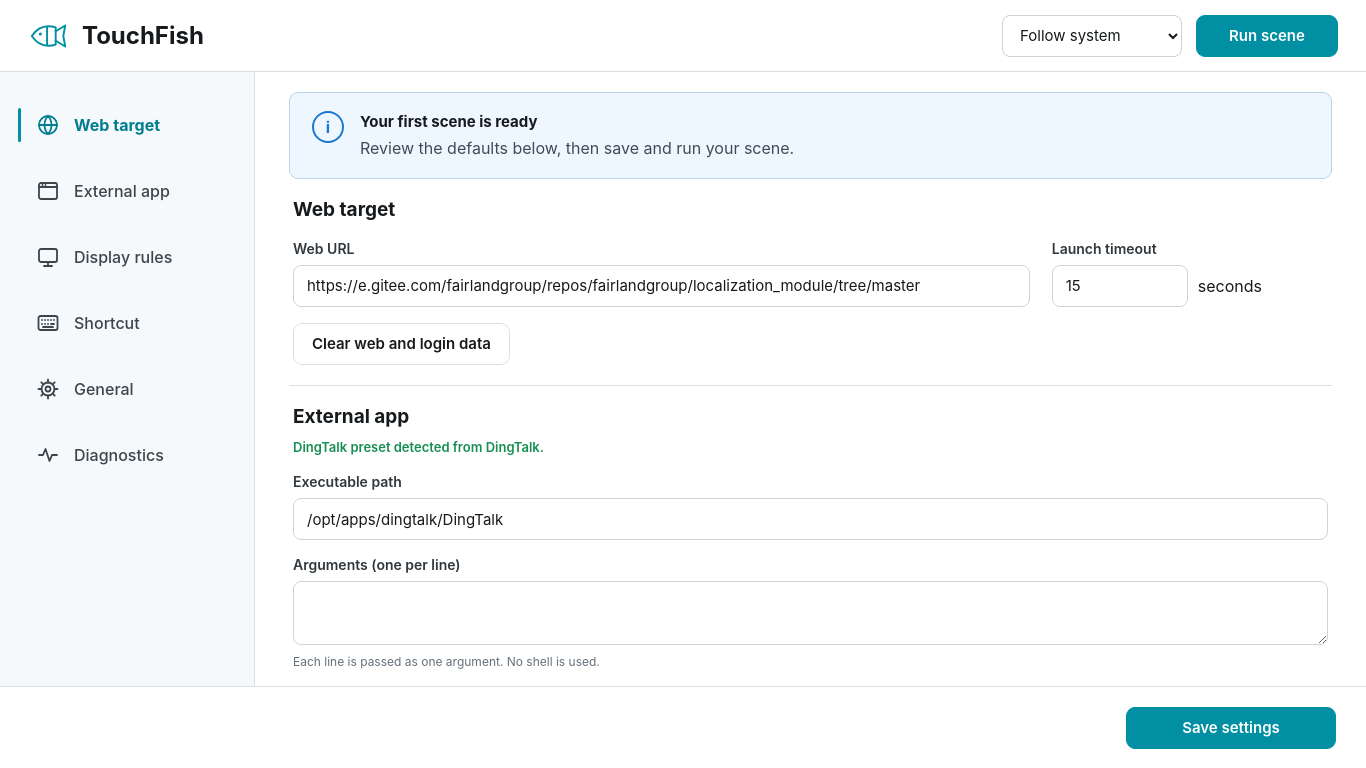
Scenario: TouchFish settings › disables settings and actions while a save is in flight
Check: the heading "Web target" is shown, box [293,198,395,221]
What coordinates should you click on to do the following:
click the button "Save settings"
I would click on:
 (1231, 728)
Its box is [1126,706,1336,748].
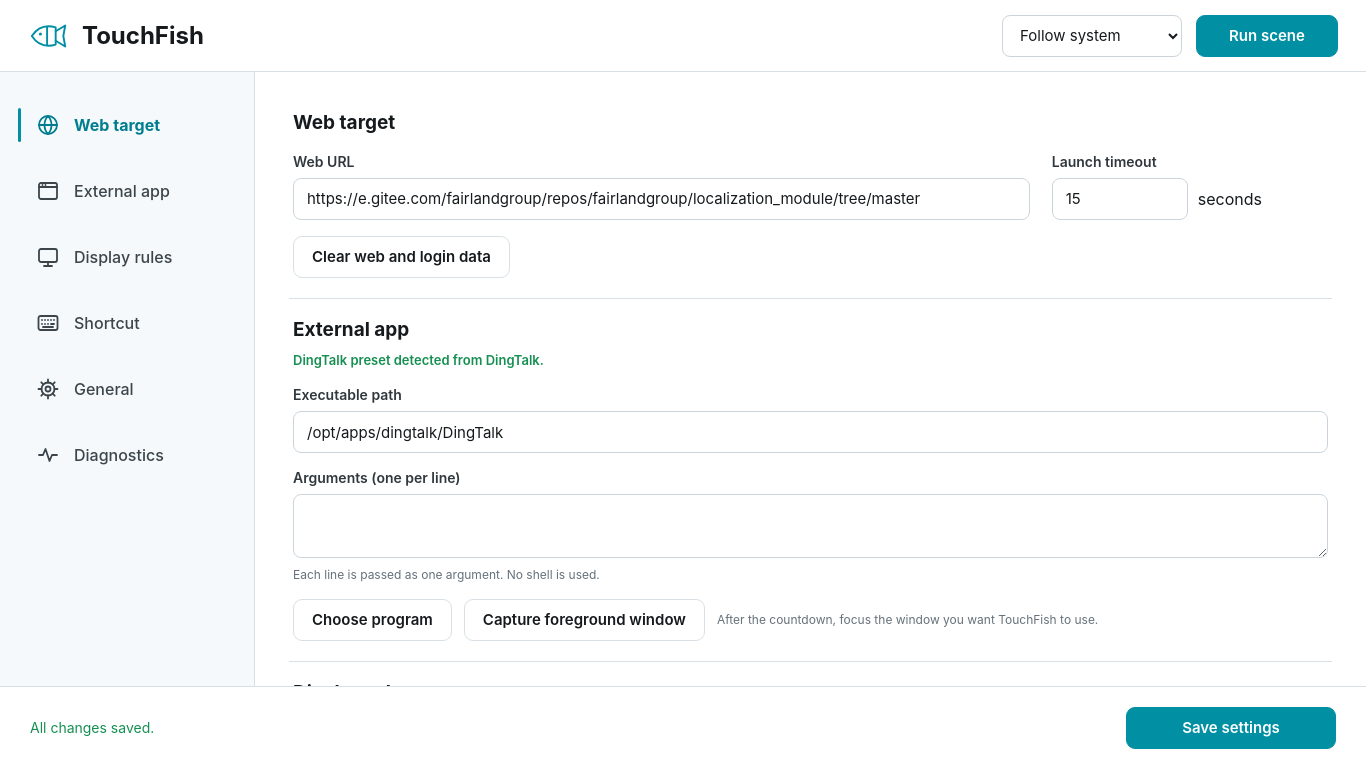
Check: the text "All changes saved." is shown, box [30,719,154,736]
